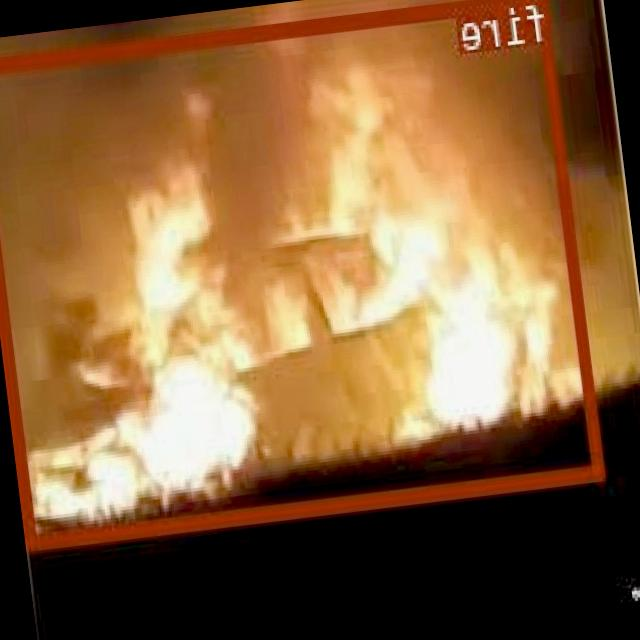fire: (0, 0, 604, 544)
